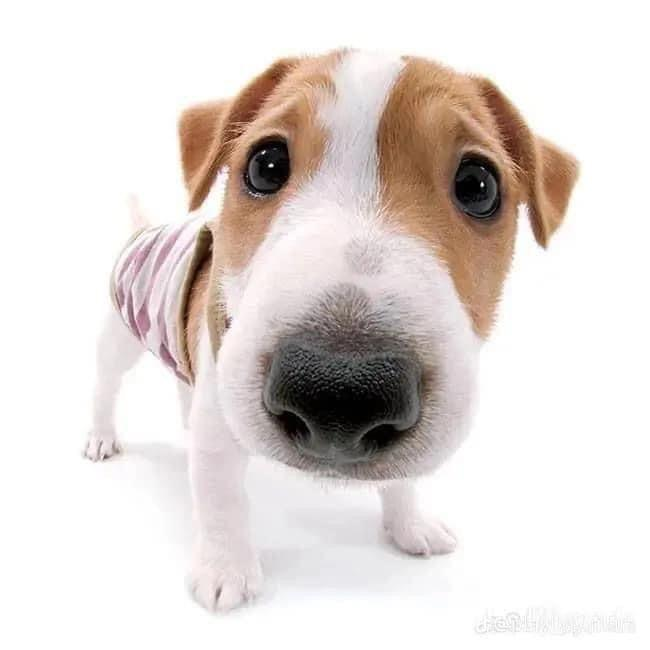puppy-dog: (69, 47, 583, 622)
